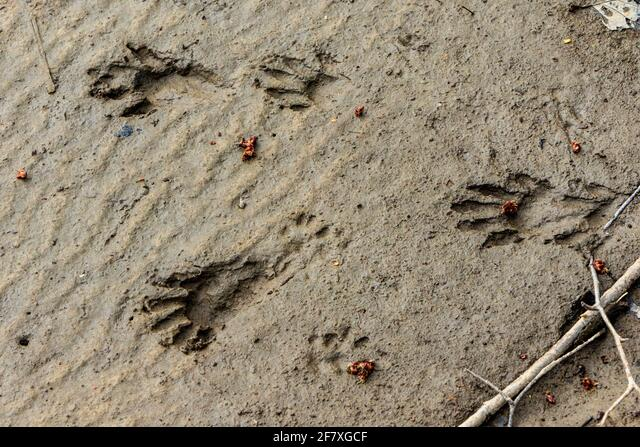raccoon: (129, 232, 288, 368), (81, 25, 231, 137), (451, 154, 603, 253), (248, 37, 346, 133)
